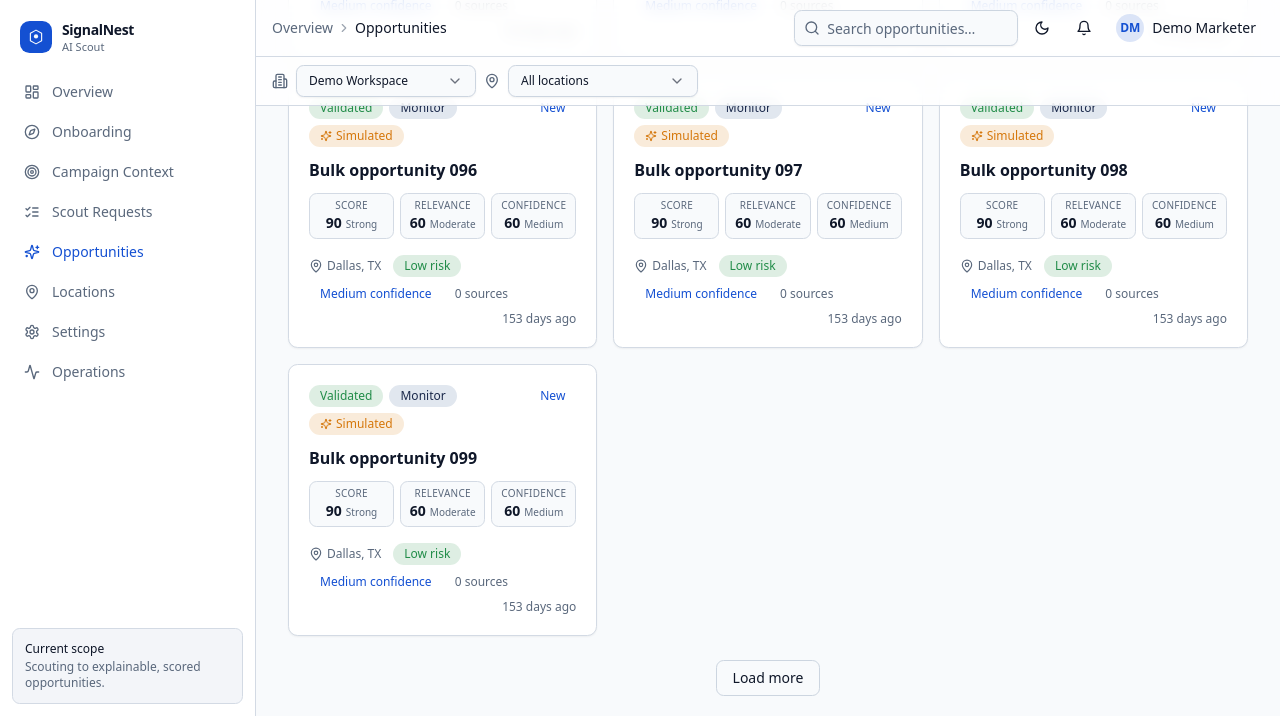
Test: feed paging and truthful count (P6-UI-022) › reports the total, not the page length, and loads the rest on demand
(page scrolled)
Click the button "Load more": (768, 678) [716,660,820,696]
(page scrolled)
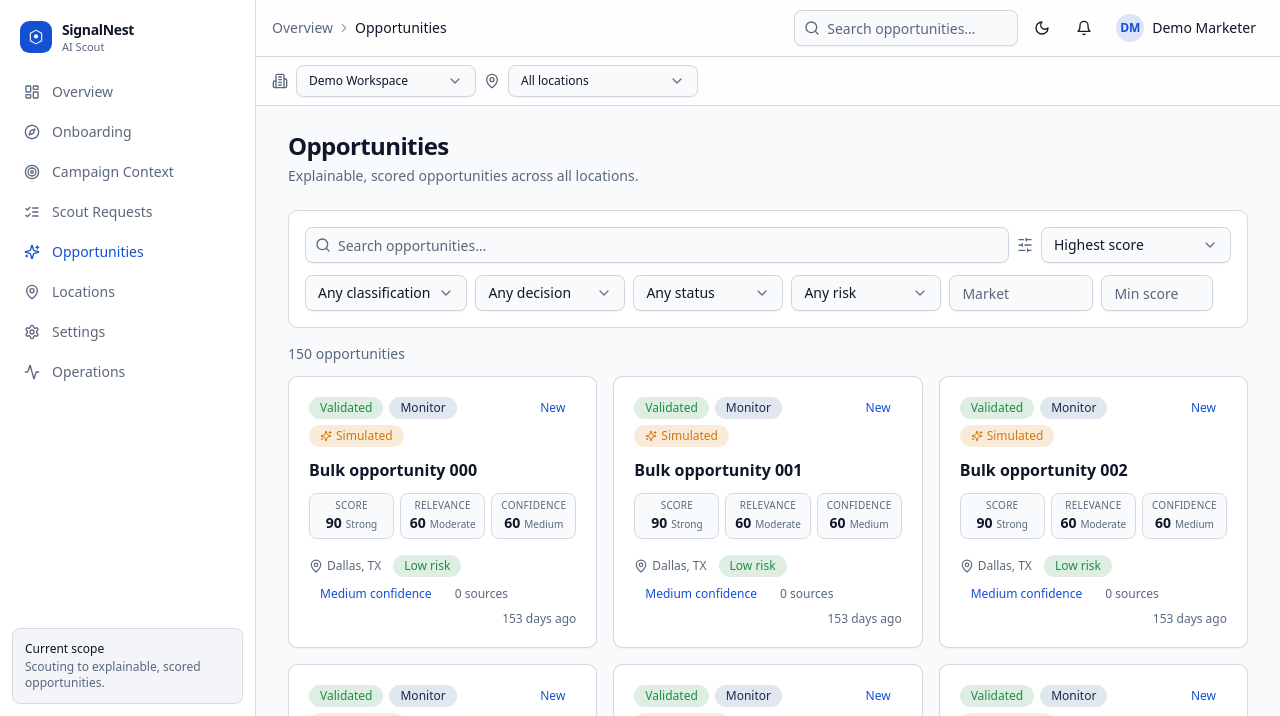
Expected: the text "150 opportunities" is shown, [288,344,405,364]
Expected: the number of headings "Bulk opportunity 000" is 150
Expected: the button "Load more" is gone
